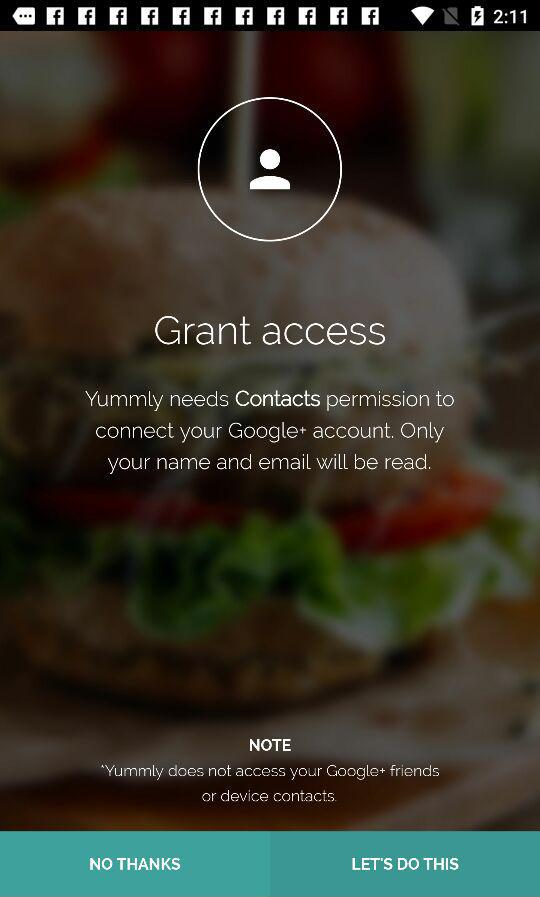BackgroundImage: (1, 32, 540, 831)
Image: (197, 97, 343, 244)
Text: (85, 390, 455, 476), (101, 764, 441, 803), (154, 315, 386, 347), (249, 738, 292, 753)
TextButton: (270, 831, 540, 897), (1, 831, 270, 897)
UpperTaskBar: (1, 1, 540, 32)
